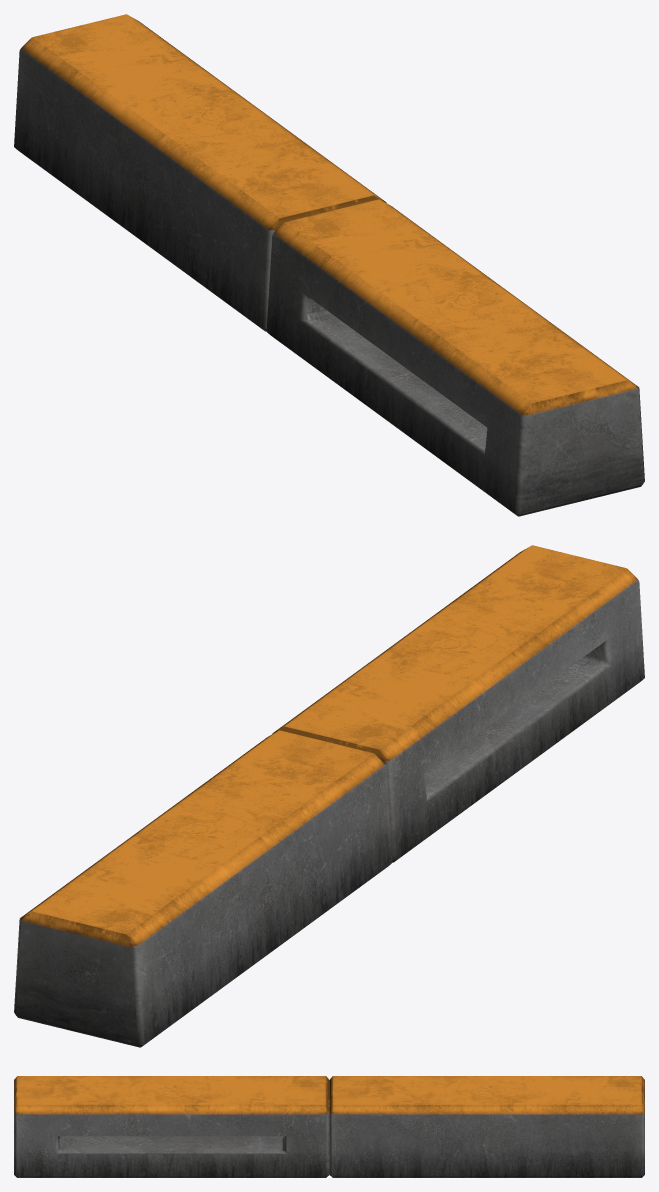
The model's file is SM_Curb_01.fbx.
The picture shows the model from 3 angles, top to bottom: view 1: azimuth 30°, elevation 25°; view 2: azimuth 150°, elevation 25°; view 3: azimuth 270°, elevation 25°; orthographic projection. The views are drawn at different scales.
Parts seen in each view (by area): view 1: SM_Curb_01_LOD0; view 2: SM_Curb_01_LOD0; view 3: SM_Curb_01_LOD0.
Boxes of the visible parts, x1,y1,x2,y2 form: SM_Curb_01_LOD0: [14, 14, 644, 516]; SM_Curb_01_LOD0: [14, 545, 644, 1047]; SM_Curb_01_LOD0: [14, 1076, 644, 1177].
Size of the model in its own units: 14.94 by 100 by 12.
